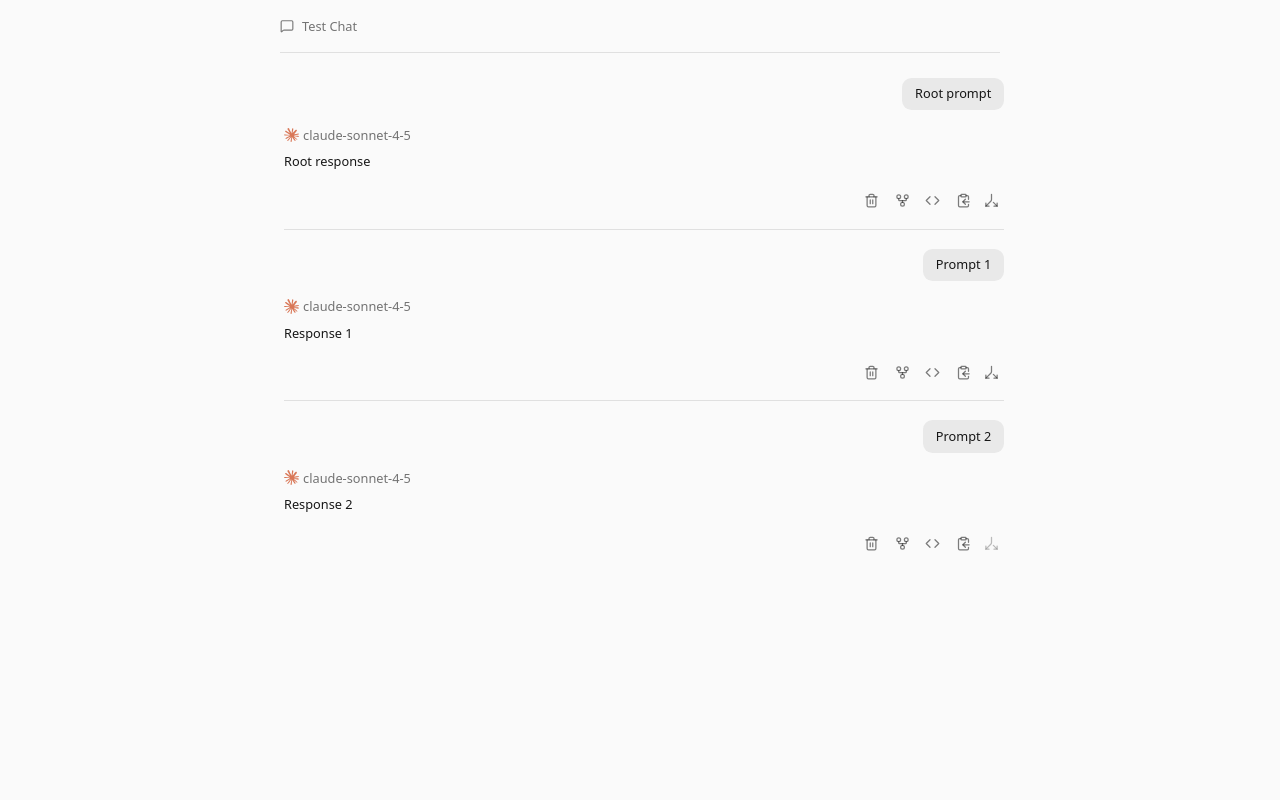
Test: ChatView › delete workflow › cancel closes delete dialog without removing
Click the button named "Delete" below "Root prompt" at coordinates (871, 201), box [859, 189, 884, 213]
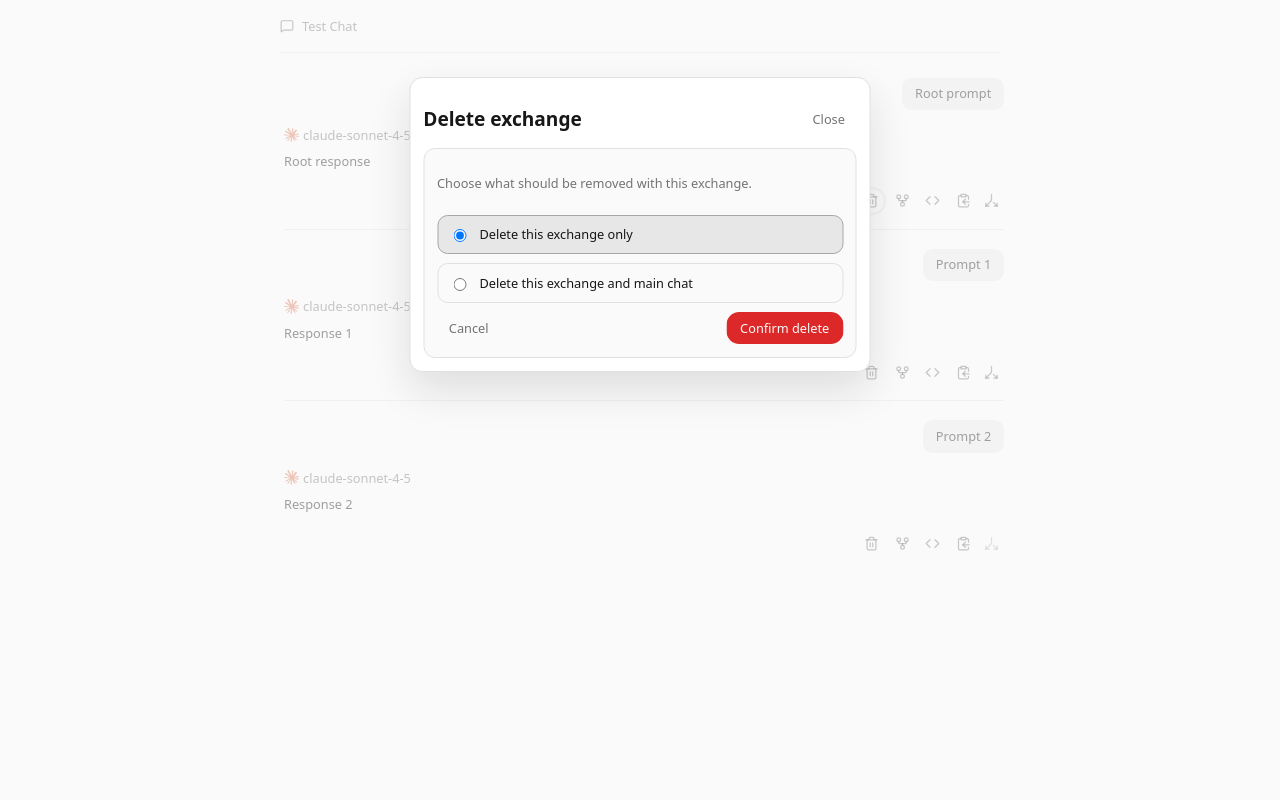
Click the button "Cancel" at coordinates (469, 328), box [437, 315, 500, 342]
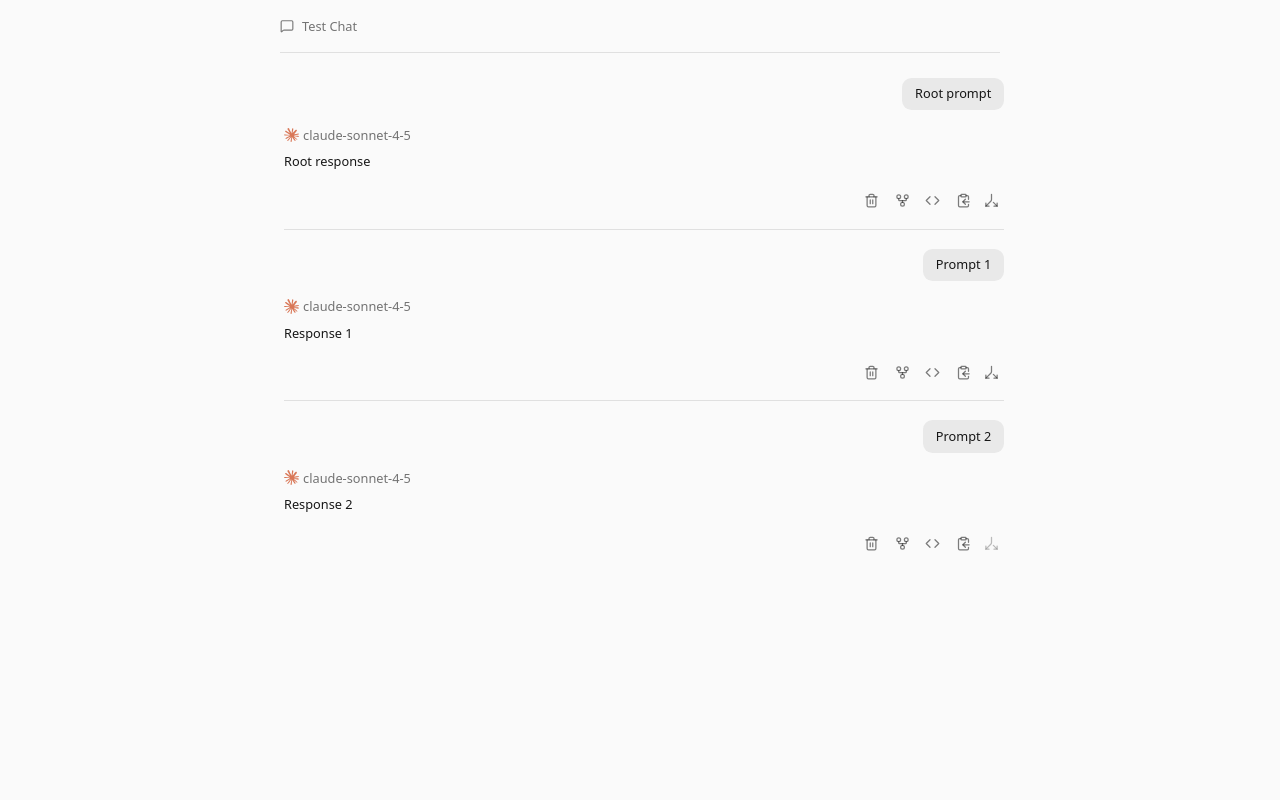
expect the heading "Delete exchange" is gone: met
